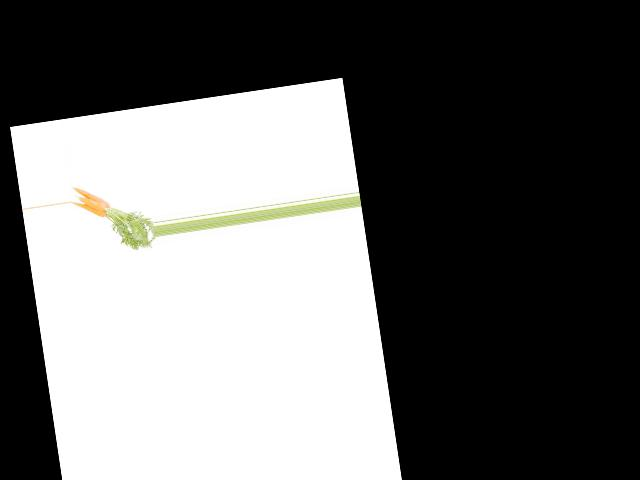carrot: (72, 196, 106, 222)
